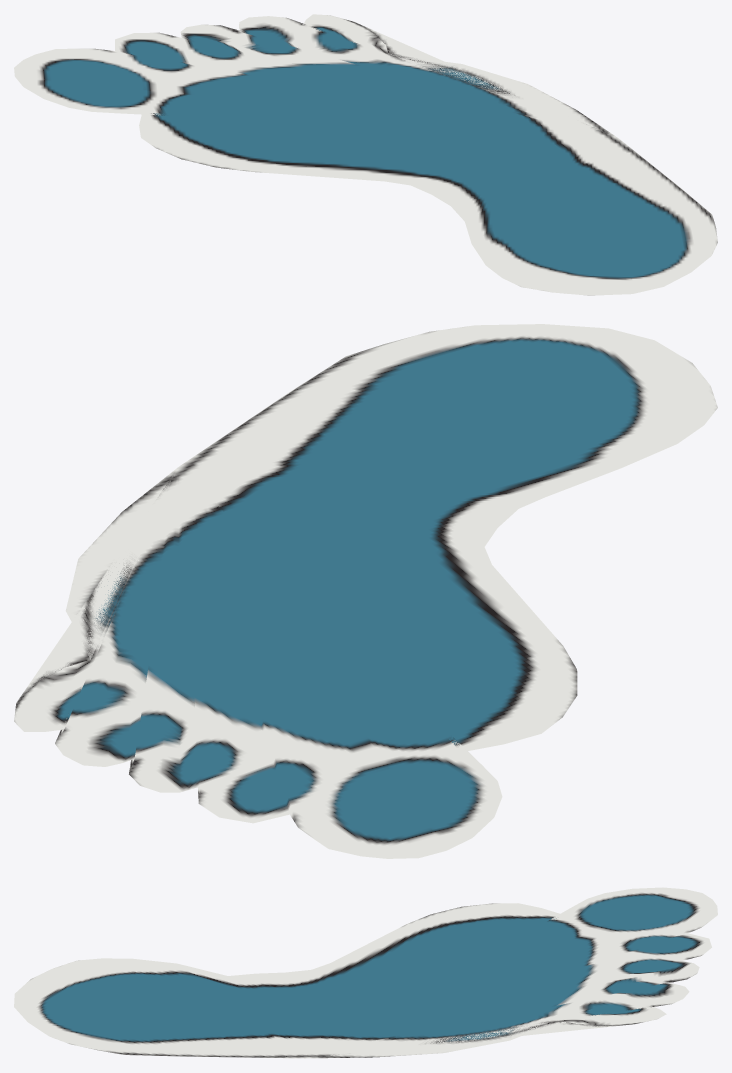
Rendered from BlueRightFoot.fbx.
The picture shows the model from 3 angles, top to bottom: view 1: azimuth 30°, elevation 25°; view 2: azimuth 150°, elevation 25°; view 3: azimuth 270°, elevation 25°; orthographic projection. The views are drawn at different scales.
Parts seen in each view (by area): view 1: Plane.001; view 2: Plane.001; view 3: Plane.001.
Boxes of the visible parts, <box> form: Plane.001: <box>14,14,717,295</box>; Plane.001: <box>14,324,717,858</box>; Plane.001: <box>14,887,717,1058</box>.
Size of the model in its own units: 696 by 6.02 by 1211.
